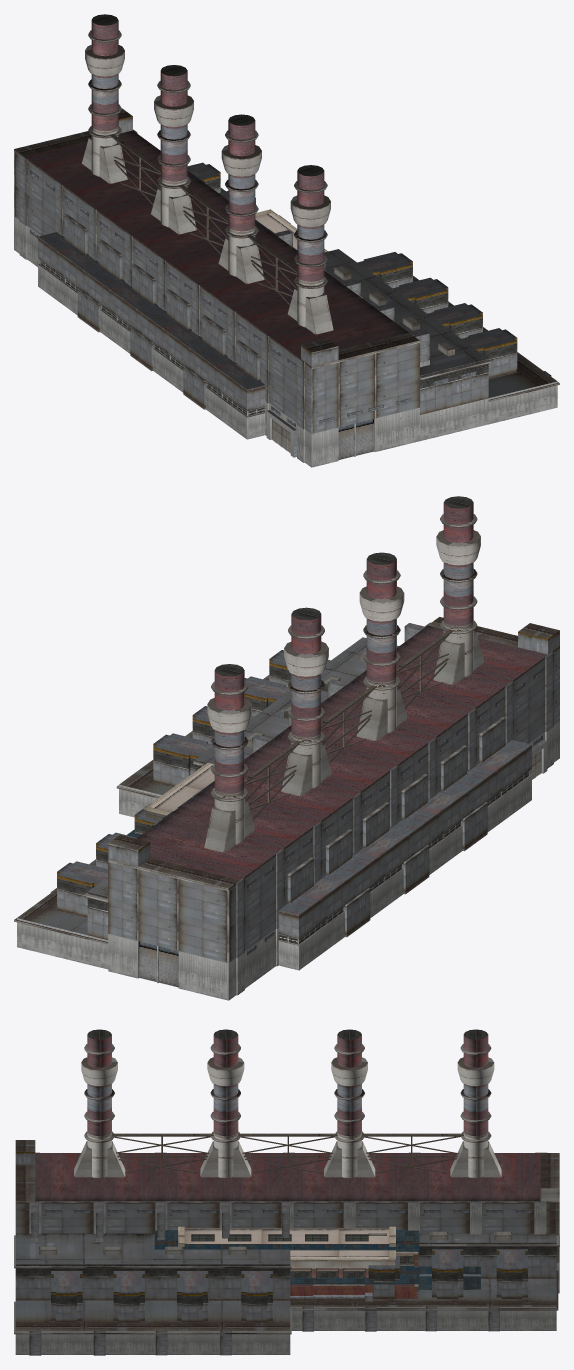
Rendered from industrial_buildings_set_-_low_poly_models.glb.
3 views of the same model, one above another, from view 1: azimuth 30°, elevation 25°; view 2: azimuth 150°, elevation 25°; view 3: azimuth 270°, elevation 25° (orthographic). The views are drawn at different scales.
Visible parts, largest first — view 1: in_powerplant, in_building_10; view 2: in_powerplant, in_building_10; view 3: in_powerplant, in_building_10, in_factory_1, in_factory_2, in_hangar.
Part boxes in pixels (bbox=[...]): in_powerplant: bbox=[14, 14, 559, 467]; in_building_10: bbox=[255, 209, 362, 298]; in_powerplant: bbox=[14, 496, 559, 1000]; in_building_10: bbox=[142, 762, 214, 820]; in_powerplant: bbox=[14, 1029, 559, 1355]; in_building_10: bbox=[178, 1226, 395, 1277]; in_factory_1: bbox=[154, 1230, 419, 1298]; in_factory_2: bbox=[418, 1266, 480, 1289]; in_hangar: bbox=[208, 1292, 372, 1301].
Bounding box in the file's own units: 99.29 × 89.08 × 191.
Materials: 13 (13 with a texture image).
